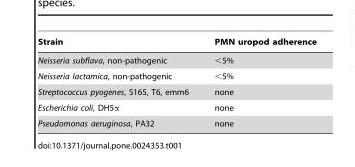table: (37, 37, 315, 127)
table column: (37, 37, 200, 127), (200, 37, 315, 127)
table column header: (37, 37, 315, 50)
table row: (37, 50, 315, 68), (37, 83, 315, 99), (37, 99, 315, 115), (37, 68, 315, 83), (37, 37, 315, 50), (37, 115, 315, 127)
